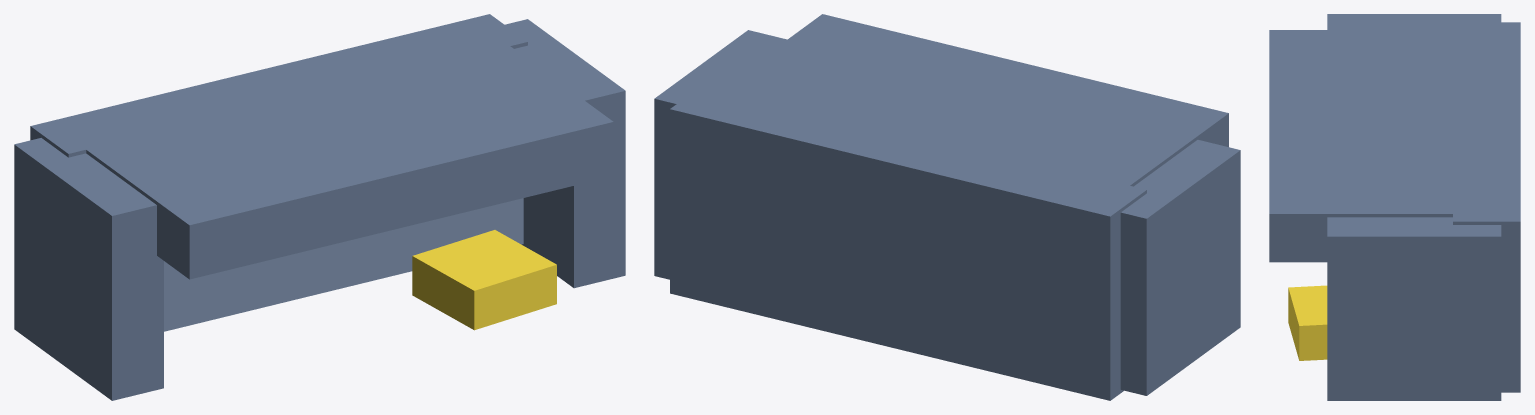
The model's file is 15_sofa.glb.
3 renders of one model, left to right at view 1: azimuth 30°, elevation 25°; view 2: azimuth 150°, elevation 25°; view 3: azimuth 270°, elevation 25°, orthographic. The views are drawn at different scales.
Visible parts, largest first — view 1: part_3, part_4, part_1, part_2, part_5, part_6; view 2: part_1, part_3, part_4, part_5; view 3: part_3, part_5, part_1, part_6, part_4.
Part boxes in pixels (left/top/right/bottom): part_3: left=81, top=42, right=613, bottom=279; part_4: left=14, top=138, right=163, bottom=400; part_1: left=30, top=14, right=527, bottom=157; part_2: left=164, top=198, right=523, bottom=331; part_5: left=505, top=19, right=625, bottom=288; part_6: left=412, top=230, right=556, bottom=330; part_1: left=670, top=82, right=1146, bottom=400; part_3: left=718, top=14, right=1228, bottom=189; part_4: left=1120, top=140, right=1240, bottom=395; part_5: left=654, top=30, right=786, bottom=279; part_3: left=1269, top=30, right=1462, bottom=262; part_5: left=1327, top=217, right=1501, bottom=400; part_1: left=1453, top=22, right=1520, bottom=392; part_6: left=1288, top=285, right=1327, bottom=360; part_4: left=1327, top=14, right=1501, bottom=29.
Bounding box in the file's own units: 2.18 × 0.78 × 1.04.
